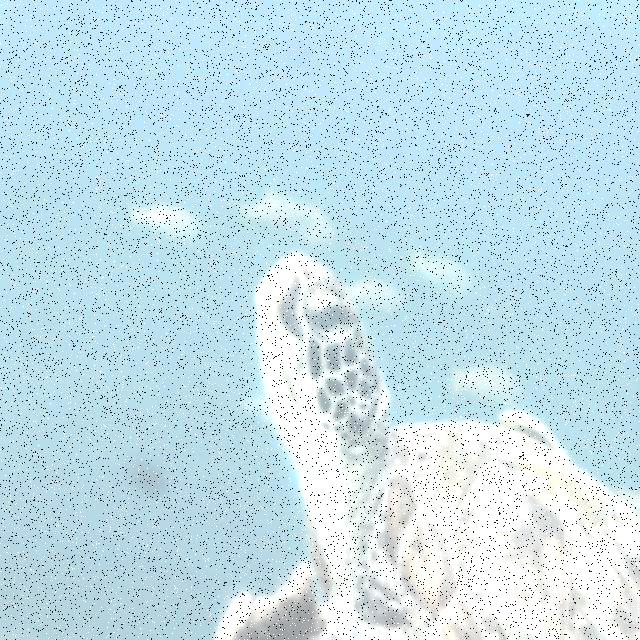tortoise: (204, 236, 640, 640)
